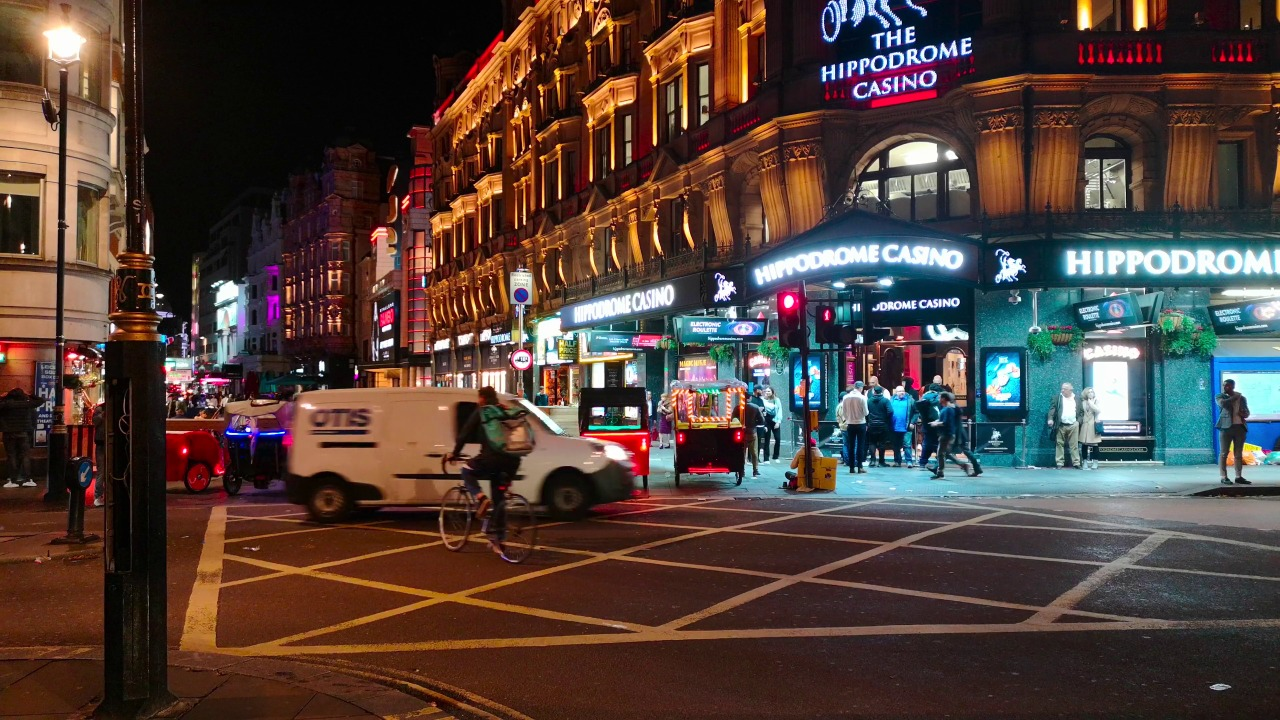car: (289, 392, 605, 521), (682, 385, 739, 489), (602, 392, 654, 495), (239, 406, 286, 480), (166, 432, 226, 489)
person: (476, 382, 528, 533), (1196, 372, 1249, 490), (1, 380, 37, 494), (937, 403, 979, 486), (847, 380, 874, 468), (779, 443, 829, 489), (1090, 393, 1114, 468), (748, 398, 768, 474), (1059, 384, 1075, 471), (769, 386, 785, 461), (876, 392, 888, 465), (892, 388, 908, 428), (928, 364, 949, 377), (871, 364, 880, 377)
